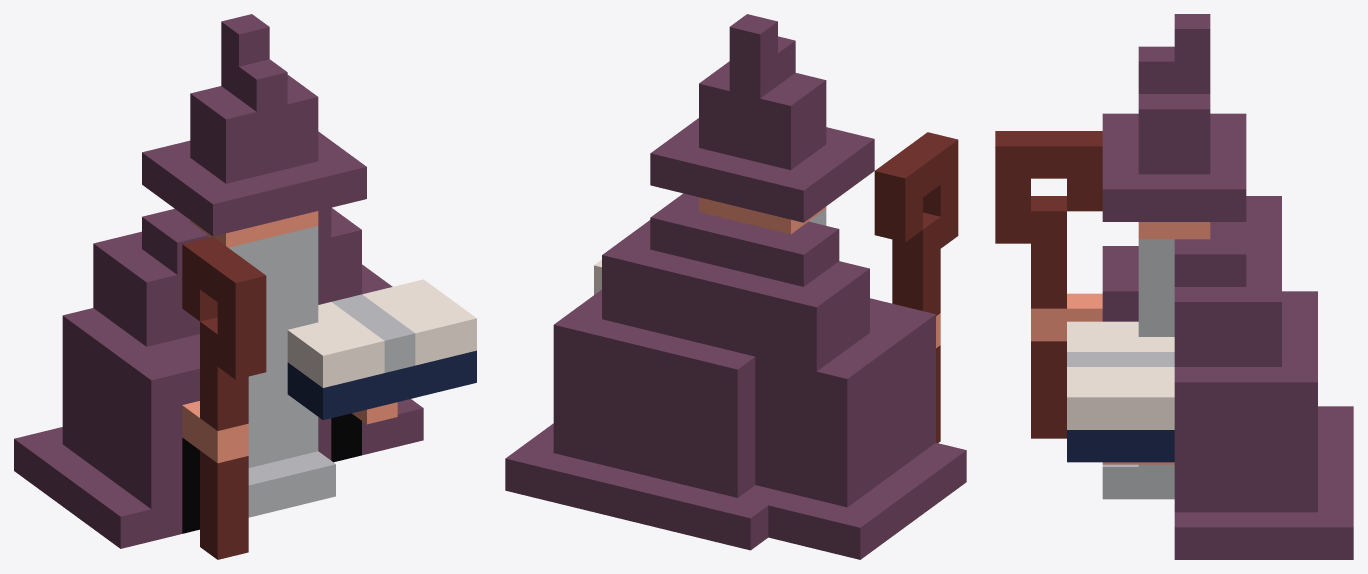
The model's file is mage_walk_2.obj.
The picture shows the model from 3 angles, left to right: view 1: azimuth 30°, elevation 25°; view 2: azimuth 150°, elevation 25°; view 3: azimuth 270°, elevation 25°; orthographic projection.
Bounding box in the file's own units: 1.1 × 1.4 × 1.
Materials: 1 (1 with a texture image).
